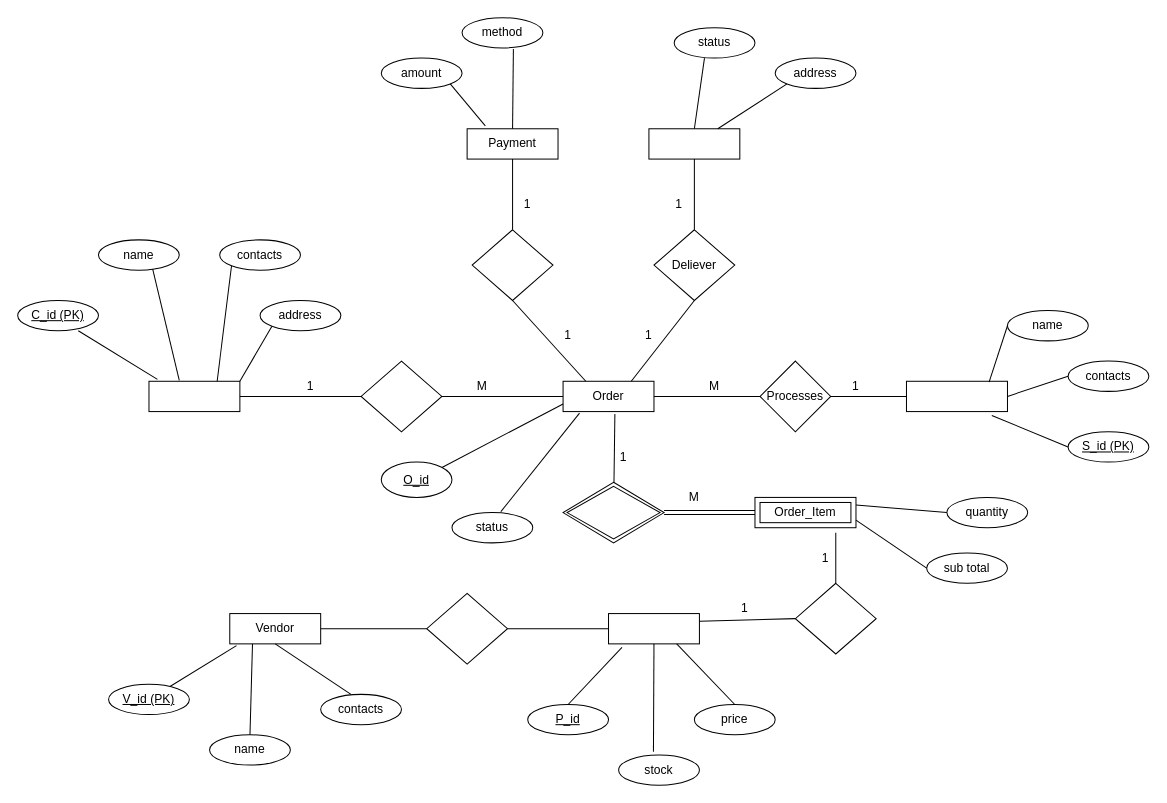
Image size: 1167x803. Some labels were removed from this diagram. The box of each missing label's shape, as (x1, y1, x2, y2) in pixels:
Customer: (148, 380, 240, 412)
Has: (562, 481, 664, 543)
Includes: (794, 582, 876, 654)
Makes: (471, 229, 553, 300)
Places: (360, 360, 442, 432)
Product: (608, 613, 699, 644)
Shipping: (648, 128, 740, 159)
Staff: (905, 380, 1007, 412)
Supplies: (426, 592, 508, 664)
